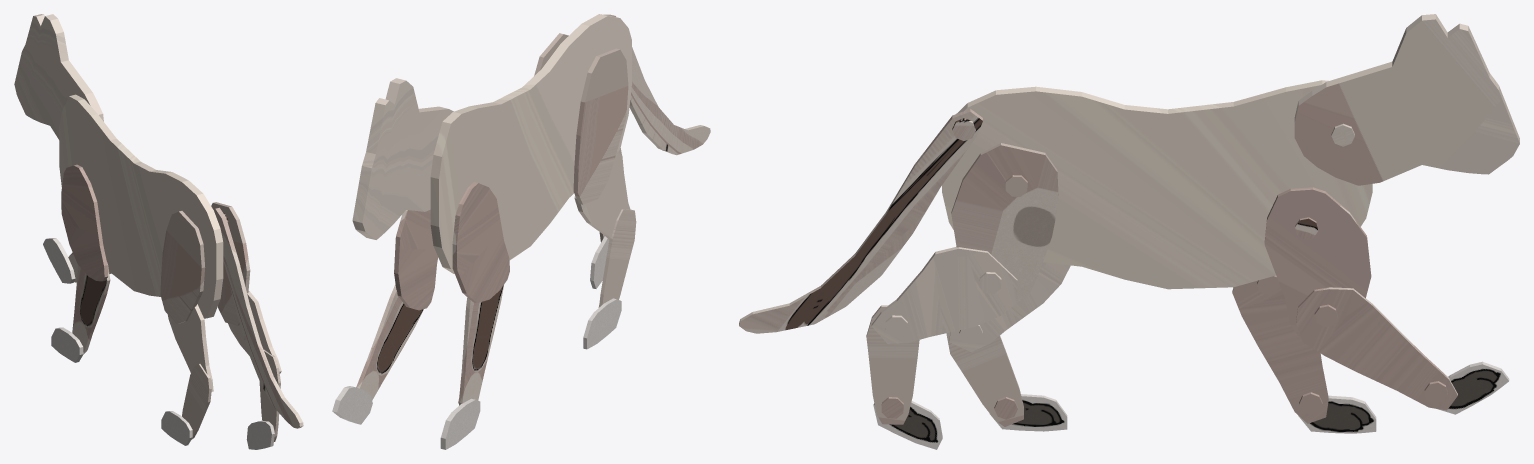
The model's file is CatRight.fbx.
3 views of the same model, side by side, from view 1: azimuth 30°, elevation 25°; view 2: azimuth 150°, elevation 25°; view 3: azimuth 270°, elevation 25° (orthographic). The views are drawn at different scales.
Parts seen in each view (by area): view 1: Body, Head, B1.001, F1.001, Plane.002, F2.001, B1, B2.001, B3.001, B2, Paw F, Paw F.001 (+3 smaller); view 2: Body, Head, B1.001, F1.001, F1, Plane.002, F2, F2.001, B3.001, B2.001, Paw F.001, PAW b.001 (+3 smaller); view 3: Body, Head, B1, Plane.002, F2, F1, B2, F2.001, B3, B3.001, B2.001, Paw F (+3 smaller).
Boxes of the visible parts, box(x1,y1,x2,y2) form: Body: box(59, 94, 223, 318); Head: box(14, 14, 103, 139); B1.001: box(160, 211, 205, 323); F1.001: box(61, 164, 108, 281); Plane.002: box(214, 207, 303, 428); F2.001: box(72, 262, 110, 354); B1: box(211, 202, 250, 325); B2.001: box(167, 304, 213, 391); B3.001: box(182, 364, 211, 439); B2: box(228, 291, 281, 373); Paw F: box(43, 238, 75, 283); Paw F.001: box(51, 327, 83, 362); Body: box(430, 14, 631, 273); Head: box(352, 78, 453, 239); B1.001: box(573, 48, 628, 204); F1.001: box(452, 182, 509, 302); F1: box(394, 209, 438, 310); Plane.002: box(604, 14, 710, 155); F2: box(356, 284, 423, 400); F2.001: box(458, 285, 503, 405); B3.001: box(598, 209, 636, 307); B2.001: box(574, 151, 630, 239); Paw F.001: box(440, 398, 480, 449); PAW b.001: box(583, 298, 621, 349); Body: box(942, 80, 1372, 289); Head: box(1294, 14, 1519, 185); B1: box(951, 143, 1058, 302); Plane.002: box(739, 109, 982, 333); F2: box(1296, 287, 1457, 410); F1: box(1264, 187, 1371, 336); B2: box(871, 247, 1017, 343); F2.001: box(1232, 275, 1328, 423); B3: box(866, 305, 919, 424); B3.001: box(946, 332, 1023, 426); B2.001: box(949, 262, 1070, 351); Paw F: box(1436, 361, 1509, 414).
Size of the model in its own units: 5.4 by 31.11 by 51.52.
